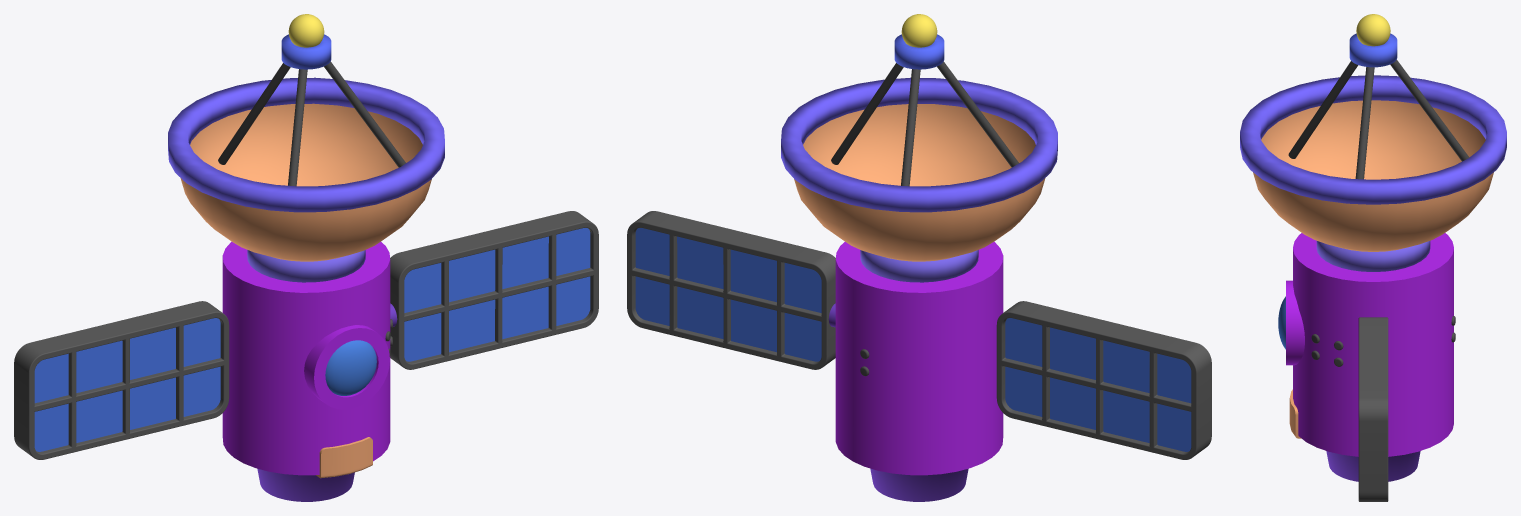
File: satellite.glb
3 renders of one model, left to right at view 1: azimuth 30°, elevation 25°; view 2: azimuth 150°, elevation 25°; view 3: azimuth 270°, elevation 25°, orthographic. The views are drawn at different scales.
Parts seen in each view (by area): view 1: Plane.001, Plane, Sphere, Cylinder.003, Cylinder, Cylinder.001, Circle, Cylinder.008, Roundcube.001, Cylinder.002, Cylinder.012, Cylinder.010 (+4 smaller); view 2: Plane.001, Plane, Sphere, Cylinder.001, Cylinder, Cylinder.003, Cylinder.008, Cylinder.002, Cylinder.010, Cylinder.004, Cylinder.006, Cylinder.005 (+1 smaller); view 3: Sphere, Cylinder.003, Cylinder, Cylinder.001, Plane, Cylinder.008, Cylinder.002, Circle, Cylinder.010, Cylinder.006, Cylinder.005, Cylinder.004 (+3 smaller).
Boxes of the visible parts, x1,y1,x2,y2 form: Plane.001: [34, 228, 590, 451]; Plane: [14, 211, 598, 459]; Sphere: [180, 103, 431, 261]; Cylinder.003: [168, 77, 444, 212]; Cylinder: [222, 241, 390, 370]; Cylinder.001: [222, 339, 390, 475]; Circle: [304, 325, 389, 409]; Cylinder.008: [247, 250, 365, 282]; Roundcube.001: [325, 340, 376, 395]; Cylinder.002: [257, 468, 354, 501]; Cylinder.012: [316, 437, 372, 478]; Cylinder.010: [281, 34, 331, 69]; Plane.001: [635, 228, 1191, 451]; Plane: [627, 211, 1211, 459]; Sphere: [794, 104, 1045, 261]; Cylinder.001: [835, 338, 1003, 475]; Cylinder: [835, 241, 1003, 370]; Cylinder.003: [781, 77, 1057, 212]; Cylinder.008: [860, 250, 978, 282]; Cylinder.002: [870, 468, 968, 501]; Cylinder.010: [894, 34, 944, 69]; Cylinder.004: [937, 61, 1018, 167]; Cylinder.006: [901, 69, 920, 186]; Cylinder.005: [831, 63, 903, 164]; Sphere: [1253, 100, 1493, 251]; Cylinder.003: [1240, 75, 1506, 204]; Cylinder: [1293, 233, 1453, 356]; Cylinder.001: [1293, 325, 1453, 456]; Plane: [1358, 317, 1388, 501]; Cylinder.008: [1316, 241, 1430, 271]; Cylinder.002: [1326, 451, 1420, 481]; Circle: [1286, 280, 1304, 365]; Cylinder.010: [1349, 33, 1397, 67]; Cylinder.006: [1390, 60, 1469, 161]; Cylinder.005: [1355, 67, 1374, 179]; Cylinder.004: [1288, 61, 1358, 158].
Bounding box in the file's own units: 5.63 × 4.41 × 2.37.
